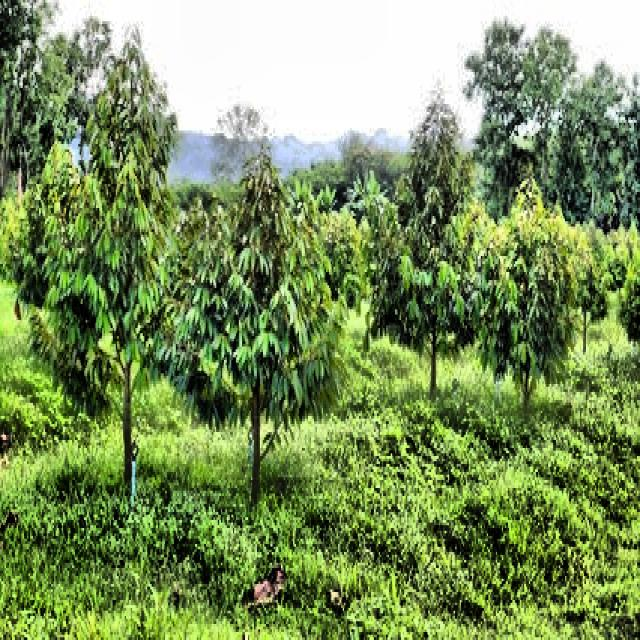arvore: (105, 256, 148, 519), (242, 313, 269, 525), (420, 250, 445, 417), (516, 294, 539, 434)
